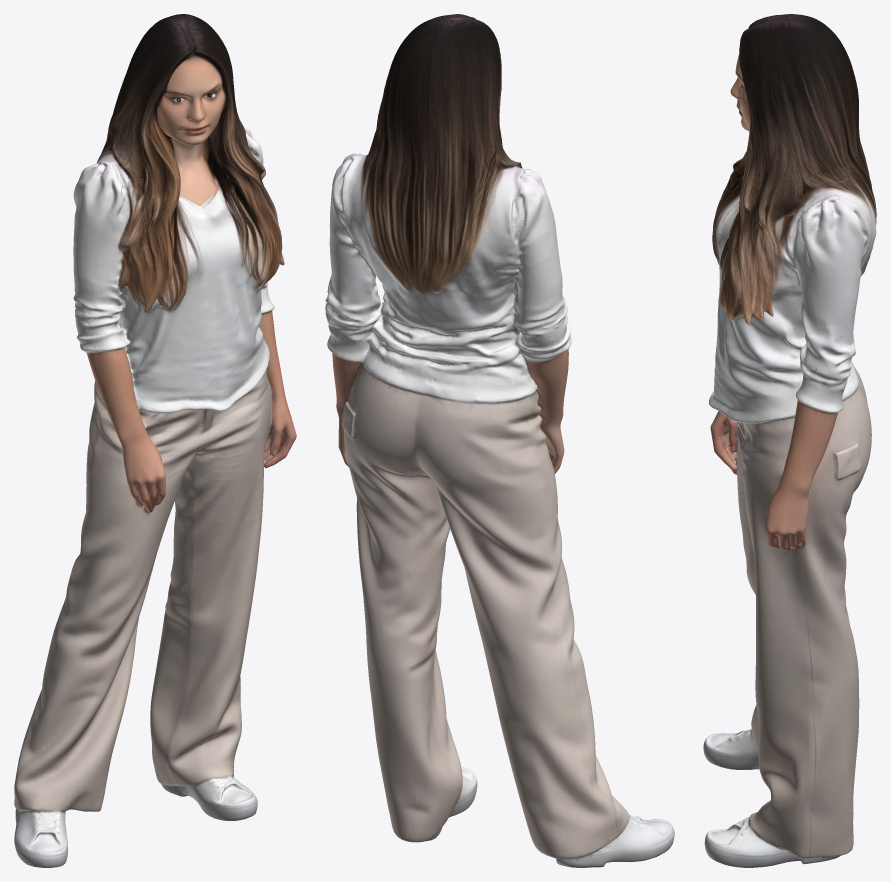
Rendered from effortless-neutrals-03acba01.glb.
3 views of the same model, side by side, from view 1: azimuth 30°, elevation 25°; view 2: azimuth 150°, elevation 25°; view 3: azimuth 270°, elevation 25° (orthographic). The views are drawn at different scales.
Parts seen in each view (by area): view 1: mesh_0; view 2: mesh_0; view 3: mesh_0.
Part boxes in pixels (box(x1,y1,x2,y2)): mesh_0: box(14, 14, 296, 867); mesh_0: box(325, 14, 674, 867); mesh_0: box(703, 14, 876, 867).
Size of the model in its own units: 0.7433 by 1.9 by 0.3587.
1 material, 1 textured.
